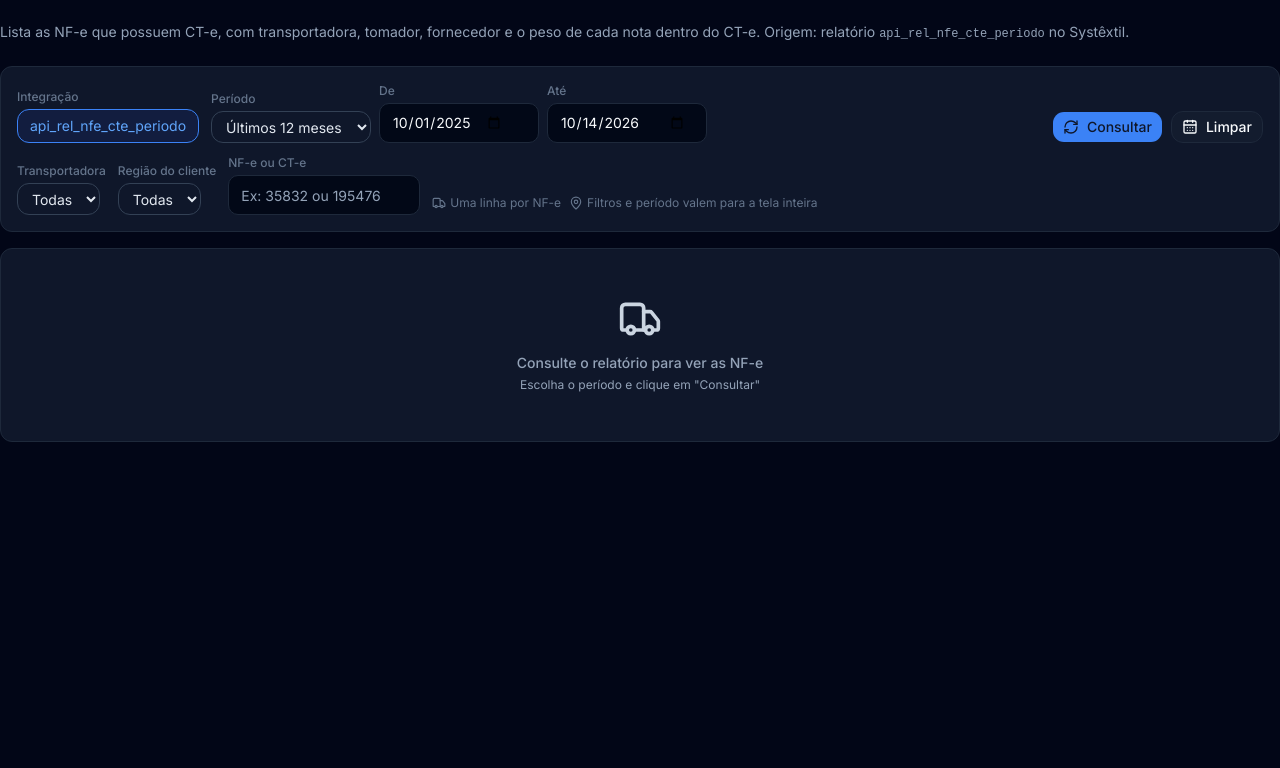
NfeCtePage › mostra travessão quando a NF-e não tem data nem valor
The image size is (1280, 768).
Expected: the button "api_rel_nfe_cte_periodo" is shown, 17,109 -> 199,143
Click the button "Consultar" at (1107, 127), box 1052,111 -> 1163,143
(page scrolled)
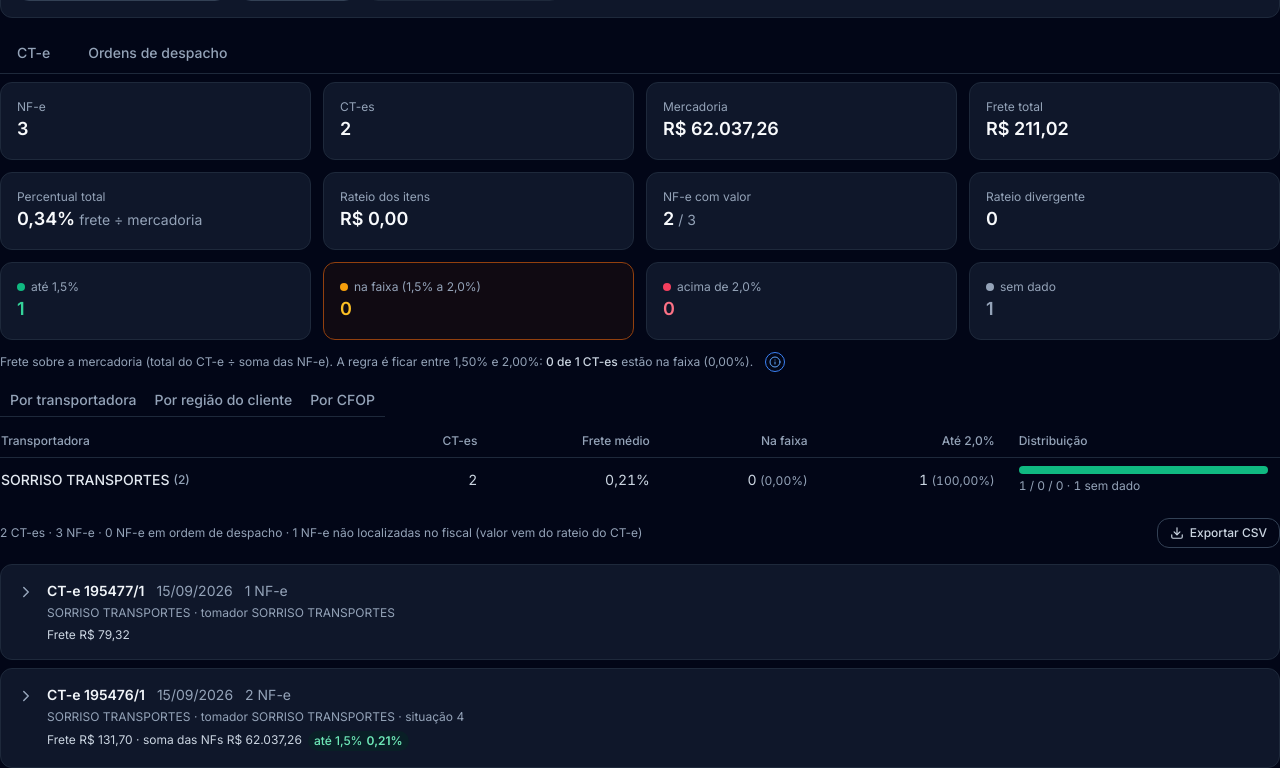
Click the button "CT-e 195477" at (66, 590), box 1,565 -> 1279,659
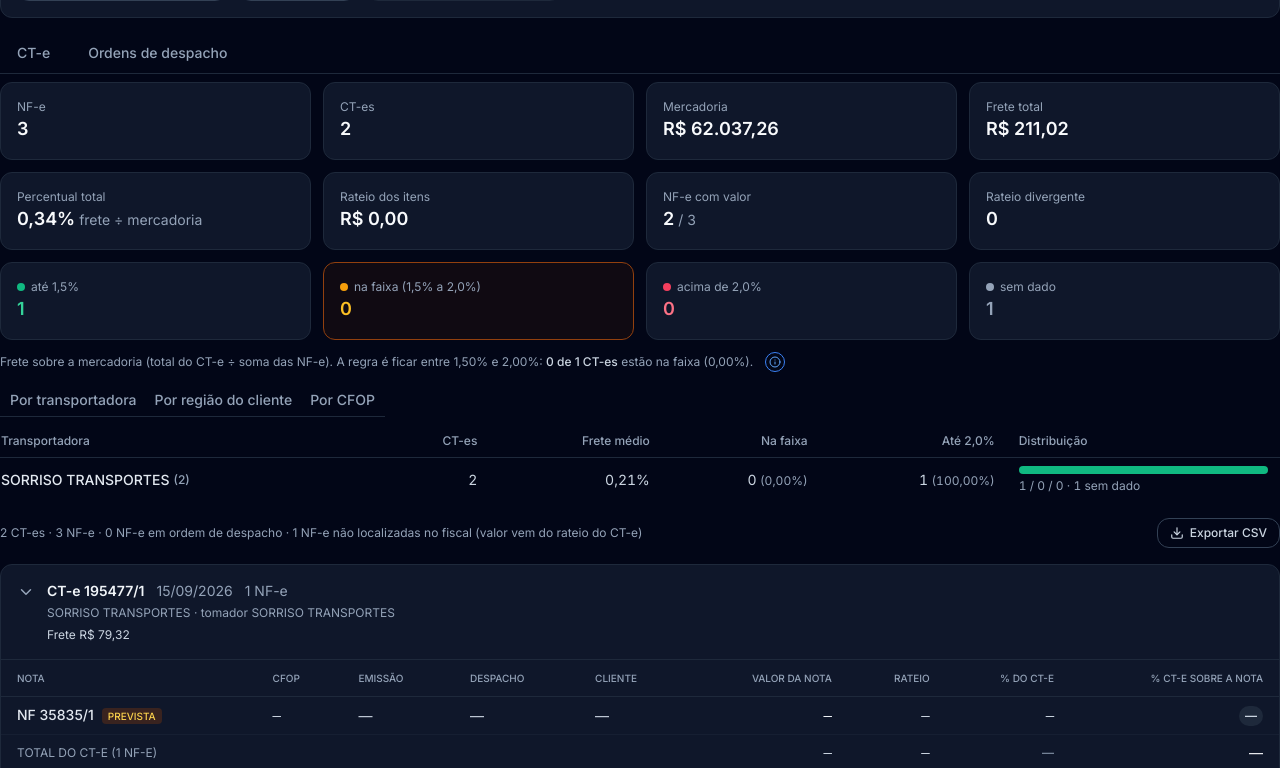
Now the 1st cell "—" is shown, box 257,696 -> 342,734
Now the 2nd cell "—" is shown, box 342,696 -> 454,734
Now the 3rd cell "—" is shown, box 454,696 -> 579,734
